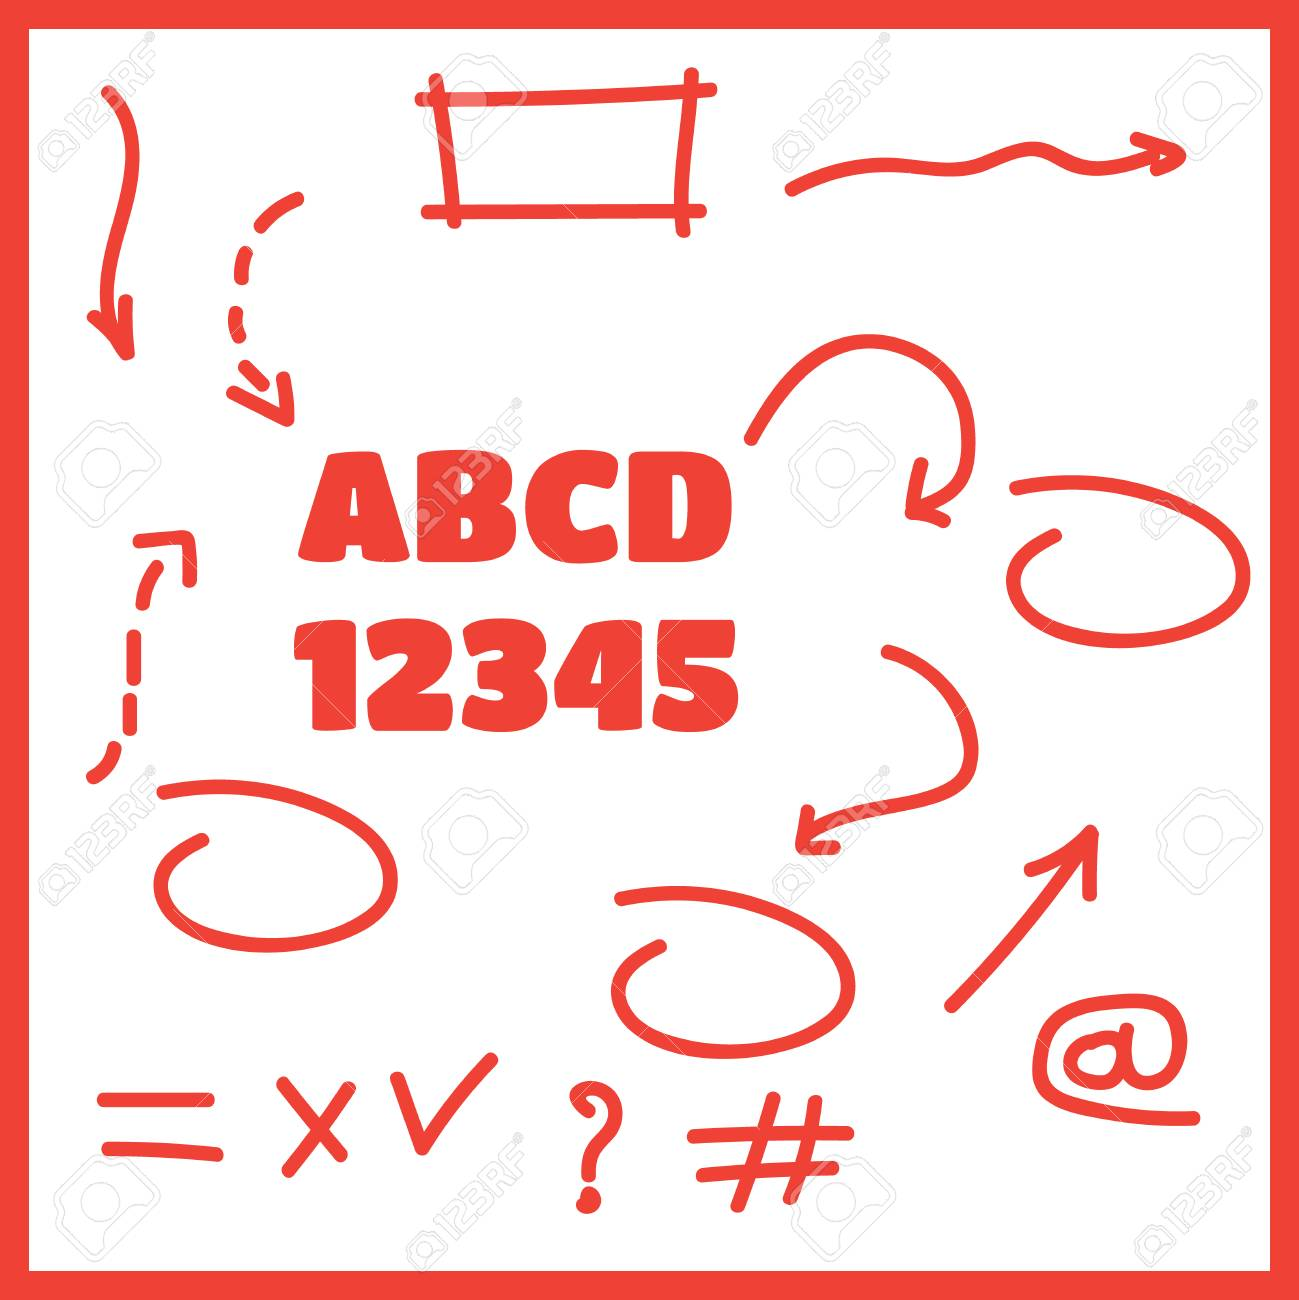arrow: (989, 814, 1106, 967), (203, 285, 310, 438), (109, 526, 203, 674), (787, 766, 906, 861), (79, 211, 148, 369), (1063, 111, 1192, 194), (898, 409, 980, 534)
